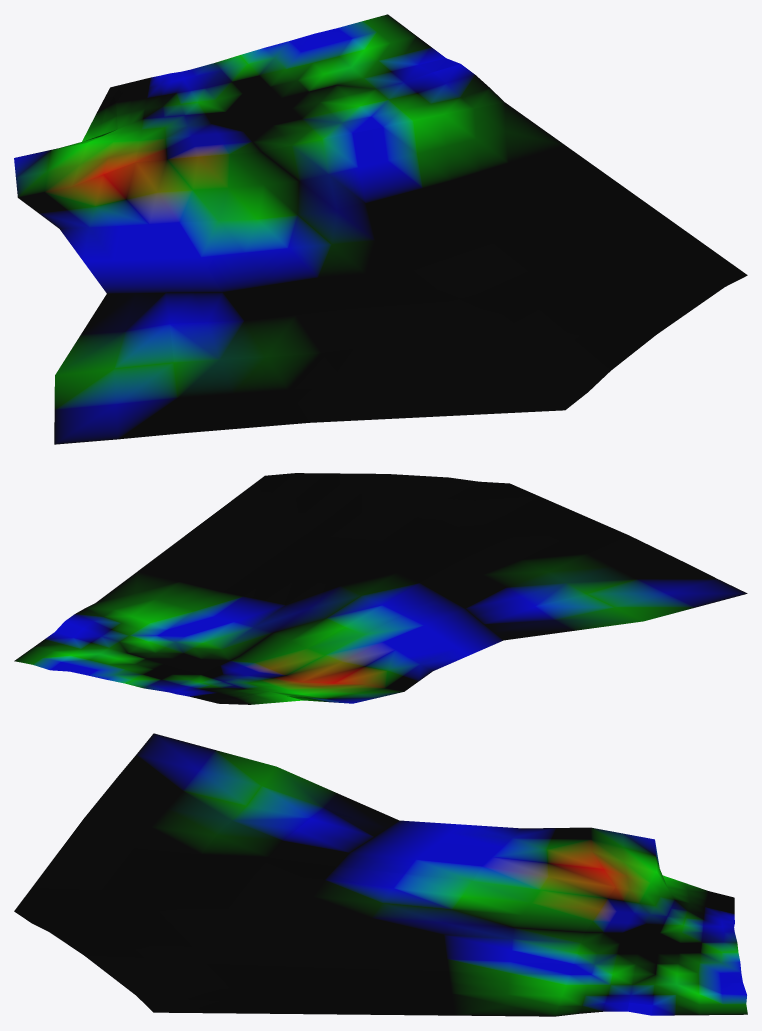
The picture shows the model from 3 angles, top to bottom: view 1: azimuth 30°, elevation 25°; view 2: azimuth 150°, elevation 25°; view 3: azimuth 270°, elevation 25°; orthographic projection. The views are drawn at different scales.
Parts seen in each view (by area): view 1: Plane; view 2: Plane; view 3: Plane.
Part boxes in pixels (x1,y1,x2,y2): Plane: [14, 14, 747, 444]; Plane: [14, 473, 747, 704]; Plane: [14, 733, 747, 1016].
Bounding box in the file's own units: 2146 × 50.15 × 2384.
